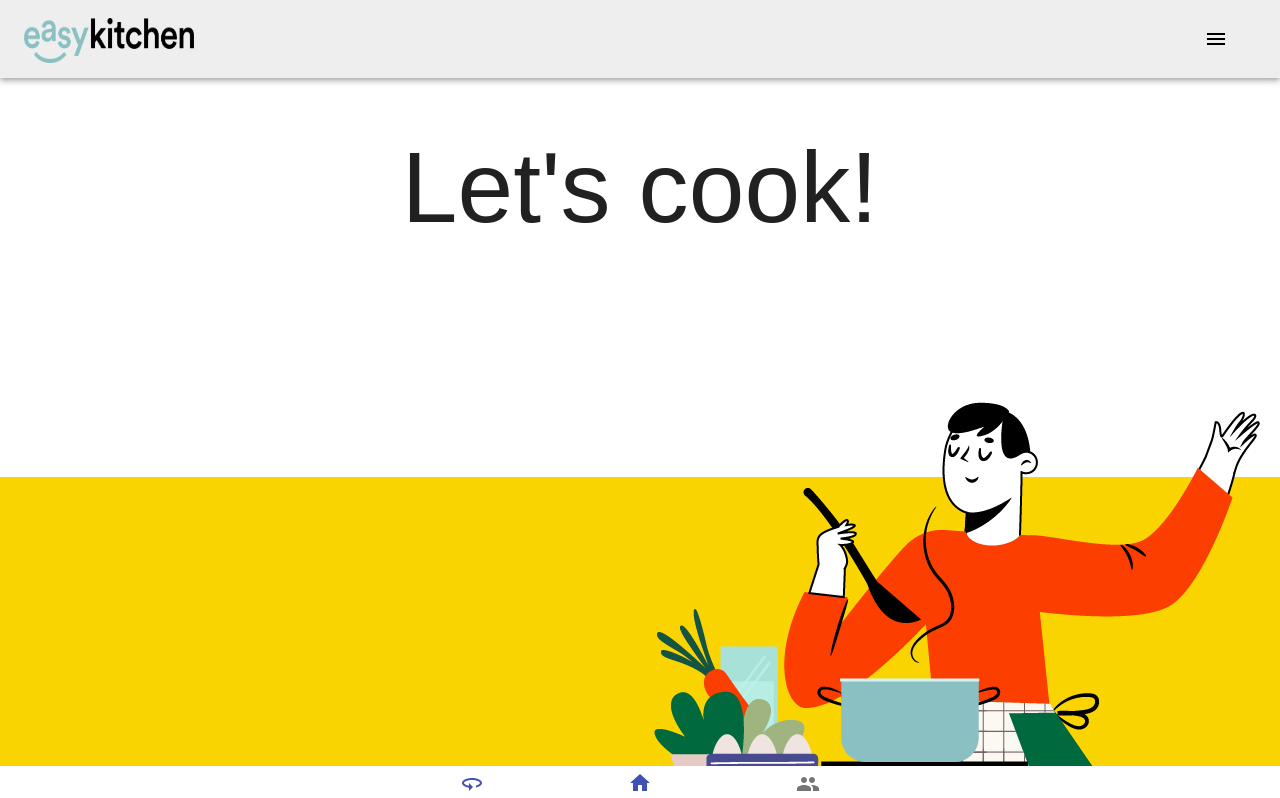
Test: TopNav render and nav function › on click opens navigation menu displays Add a dish
Click the button with test id "Menutest". click: x=1216, y=39
box: top-left (1192, 15), bottom-right (1240, 63)
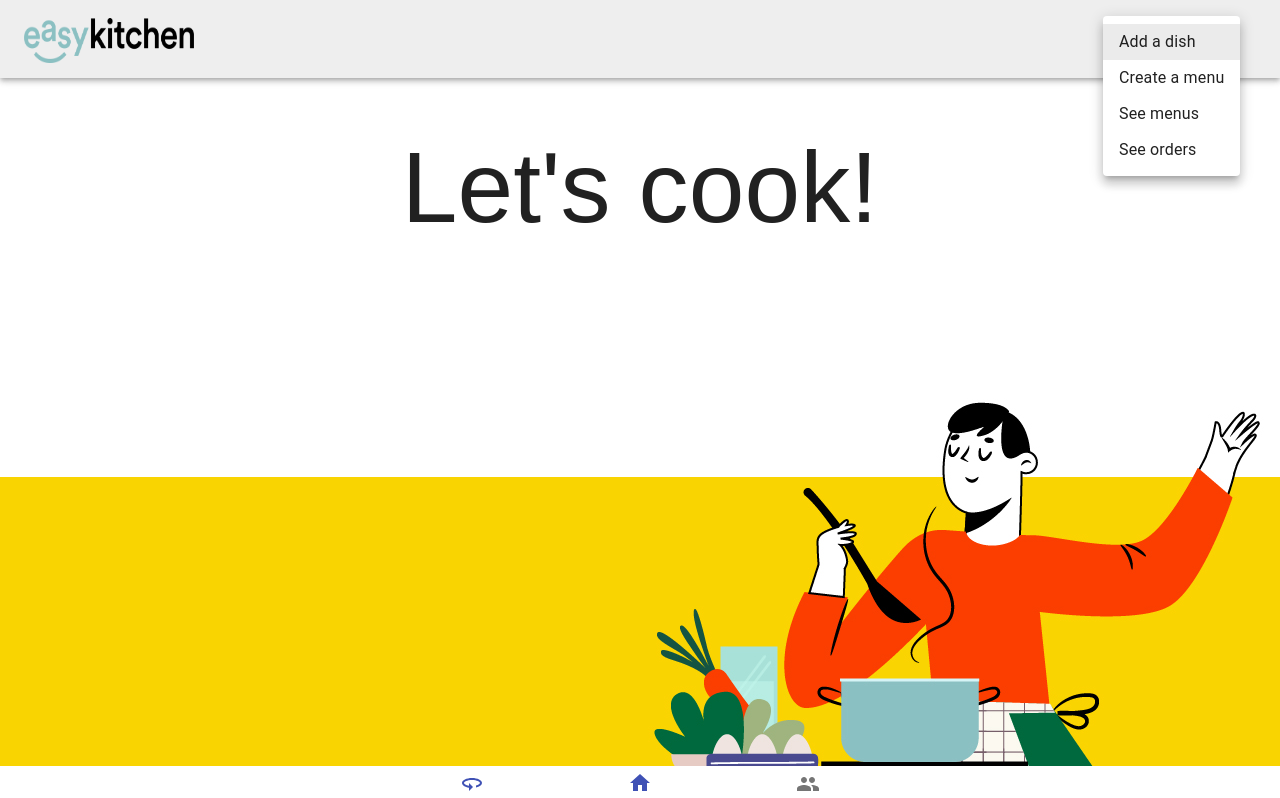
Now the menu item with test id "dish" is shown, box top-left (1103, 24), bottom-right (1240, 60)
